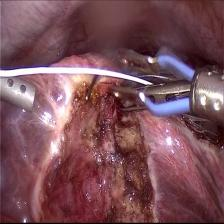Bipolar: (113, 50, 205, 116)
Grasper: (121, 83, 192, 112)
Irrigator: (1, 70, 37, 114)
